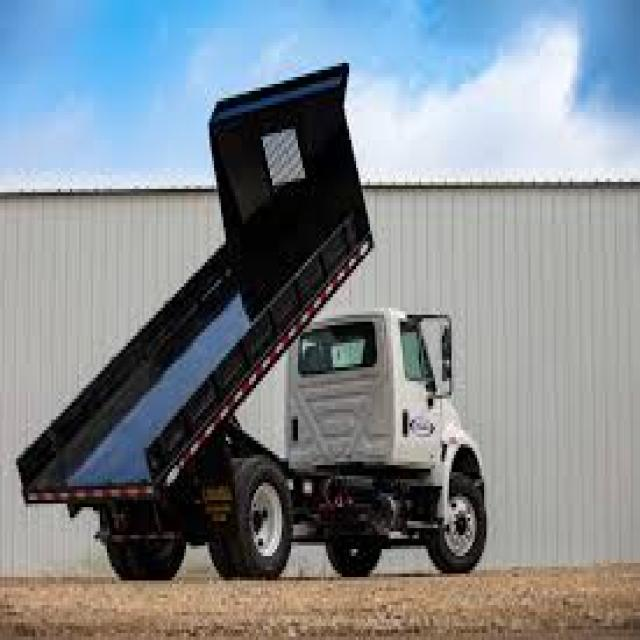dump_truck: (25, 63, 487, 578)
